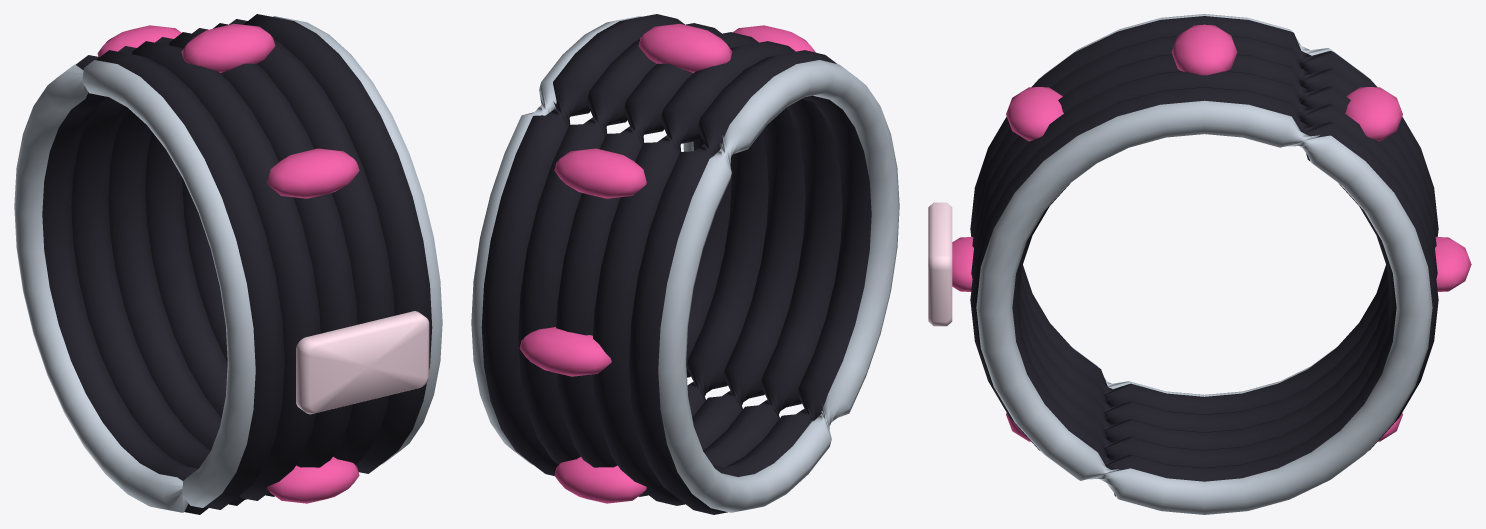
The model's file is pixel_cuff.glb.
3 renders of one model, left to right at view 1: azimuth 30°, elevation 25°; view 2: azimuth 150°, elevation 25°; view 3: azimuth 270°, elevation 25°, orthographic.
Visible parts, largest first — view 1: pixel_cuff_dark, pixel_cuff_metal, pixel_cuff_accent, pixel_cuff_gem; view 2: pixel_cuff_dark, pixel_cuff_metal, pixel_cuff_accent; view 3: pixel_cuff_dark, pixel_cuff_metal, pixel_cuff_accent, pixel_cuff_gem.
Boxes of the visible parts, x1=… form: pixel_cuff_dark: x1=42, y1=14, x2=432, y2=514; pixel_cuff_metal: x1=14, y1=16, x2=442, y2=512; pixel_cuff_accent: x1=97, y1=23, x2=359, y2=503; pixel_cuff_gem: x1=296, y1=311, x2=429, y2=414; pixel_cuff_dark: x1=481, y1=14, x2=871, y2=514; pixel_cuff_metal: x1=471, y1=16, x2=899, y2=512; pixel_cuff_accent: x1=519, y1=23, x2=815, y2=503; pixel_cuff_dark: x1=970, y1=16, x2=1438, y2=496; pixel_cuff_metal: x1=976, y1=14, x2=1432, y2=514; pixel_cuff_accent: x1=952, y1=24, x2=1471, y2=441; pixel_cuff_gem: x1=928, y1=202, x2=952, y2=326.
Bounding box in the file's own units: 0.04 × 0.085 × 0.0905.
